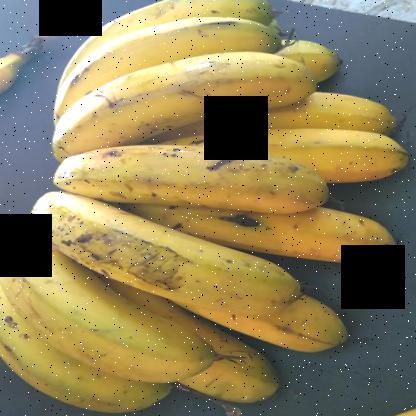ripe: (11, 187, 302, 321), (35, 56, 305, 174), (1, 233, 205, 380), (45, 11, 272, 128), (56, 132, 349, 203), (232, 195, 403, 271), (178, 288, 357, 358), (241, 124, 412, 174)
